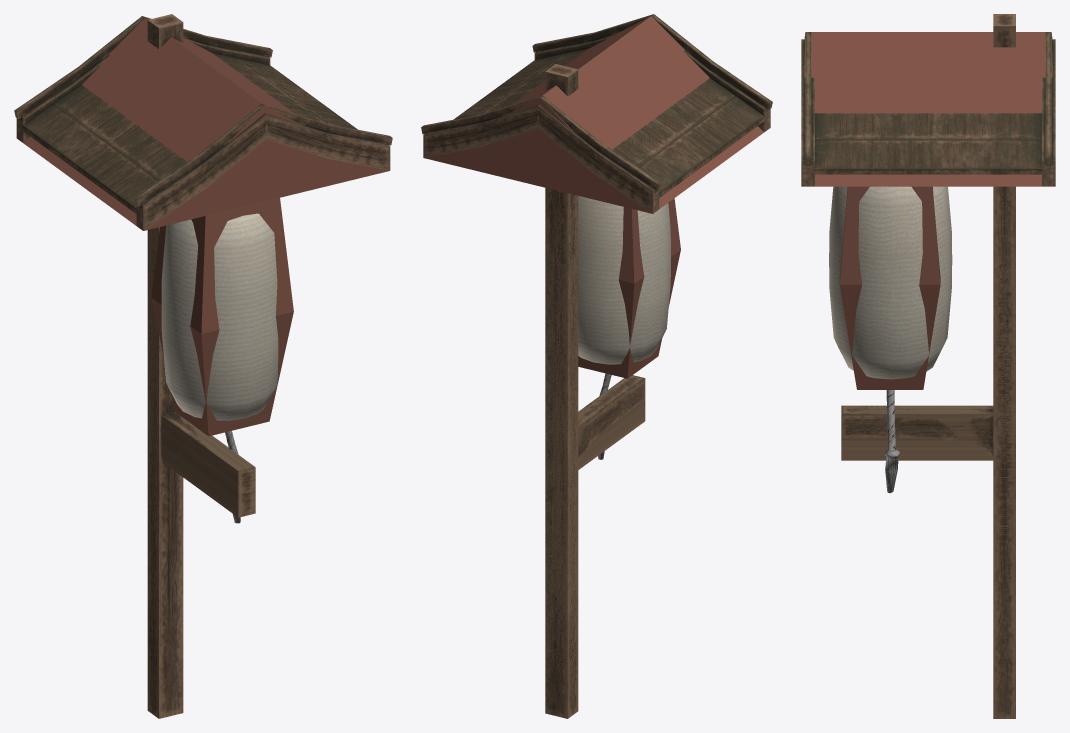
Rendered from Lamp_Chouchin_01.fbx.
3 renders of one model, left to right at view 1: azimuth 30°, elevation 25°; view 2: azimuth 150°, elevation 25°; view 3: azimuth 270°, elevation 25°, orthographic. The views are drawn at different scales.
Visible parts, largest first — view 1: Lamp_Chouchin_01, C_Lamp_Chouchin_01, Lamp_Chouchin_01_LOD0; view 2: Lamp_Chouchin_01_LOD0, C_Lamp_Chouchin_01, Lamp_Chouchin_01; view 3: C_Lamp_Chouchin_01, Lamp_Chouchin_01_LOD0, Lamp_Chouchin_01.
Part boxes in pixels (x1,y1,x2,y2): Lamp_Chouchin_01: [14, 16, 392, 718]; C_Lamp_Chouchin_01: [23, 14, 389, 718]; Lamp_Chouchin_01_LOD0: [14, 16, 392, 716]; Lamp_Chouchin_01_LOD0: [421, 14, 772, 717]; C_Lamp_Chouchin_01: [424, 16, 763, 718]; Lamp_Chouchin_01: [421, 73, 772, 718]; C_Lamp_Chouchin_01: [804, 14, 1052, 718]; Lamp_Chouchin_01_LOD0: [801, 27, 1055, 717]; Lamp_Chouchin_01: [801, 27, 1055, 718].
Size of what is drawn, in the model's own units: 0.7671 by 1.98 by 0.6573.
